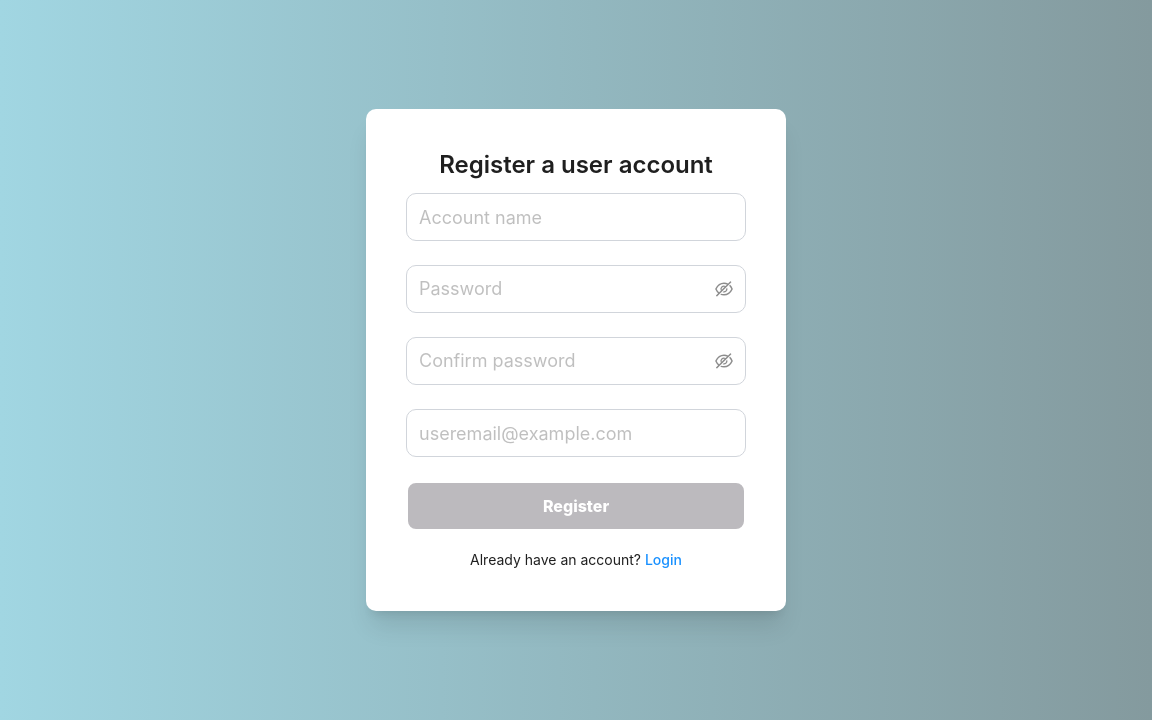
Test: RegisterPage › shows error when passwords do not match
In the password field with placeholder "Password": (565,289) [419, 270, 711, 308], type "Abc!1234"
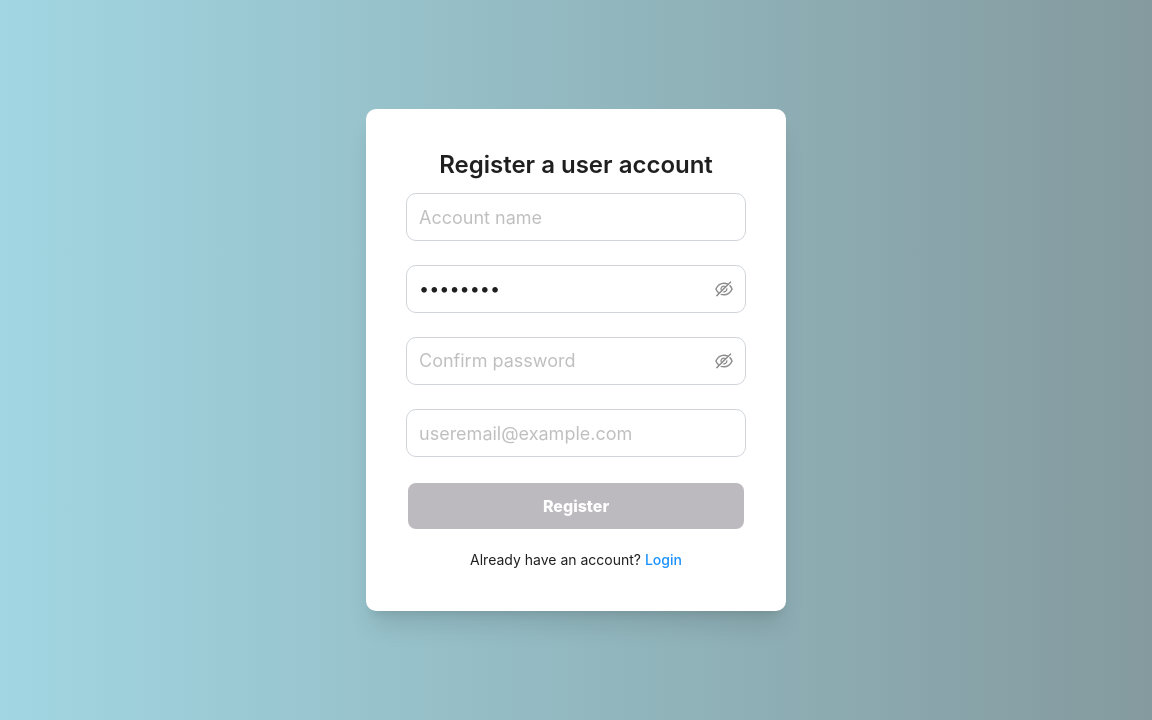
In the password field with placeholder "Confirm password": (565,361) [419, 342, 711, 380], type "Different1!"
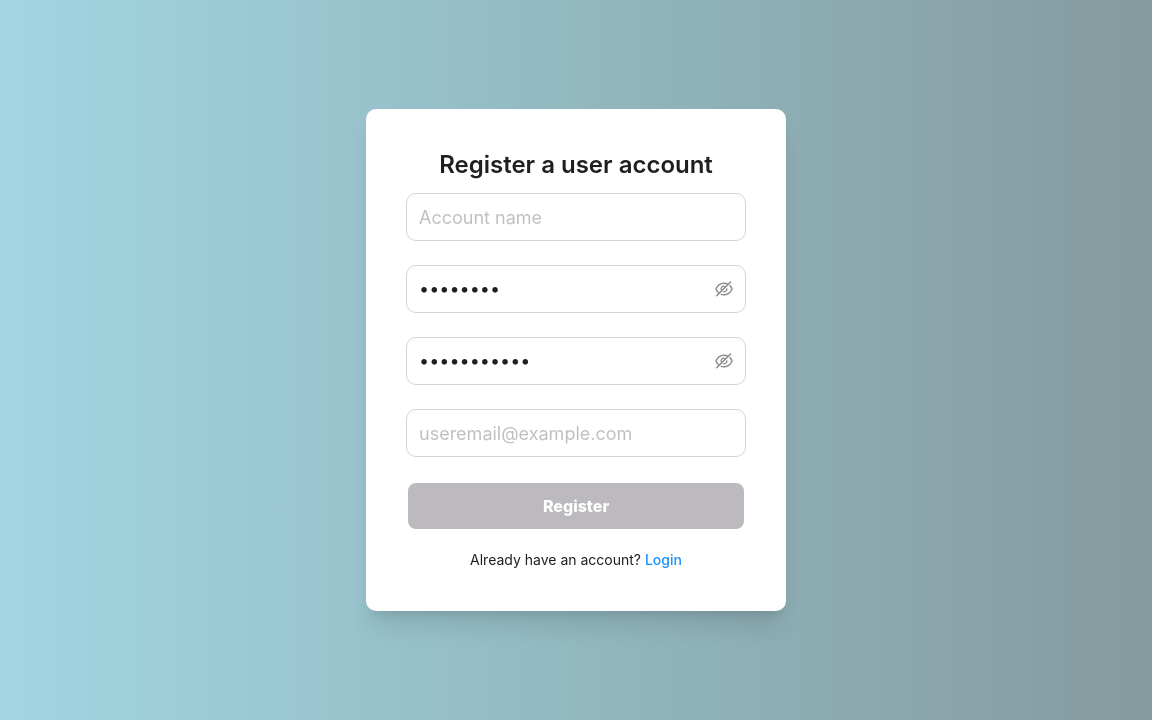
Click the button "Register": (576,506) [406, 481, 746, 531]
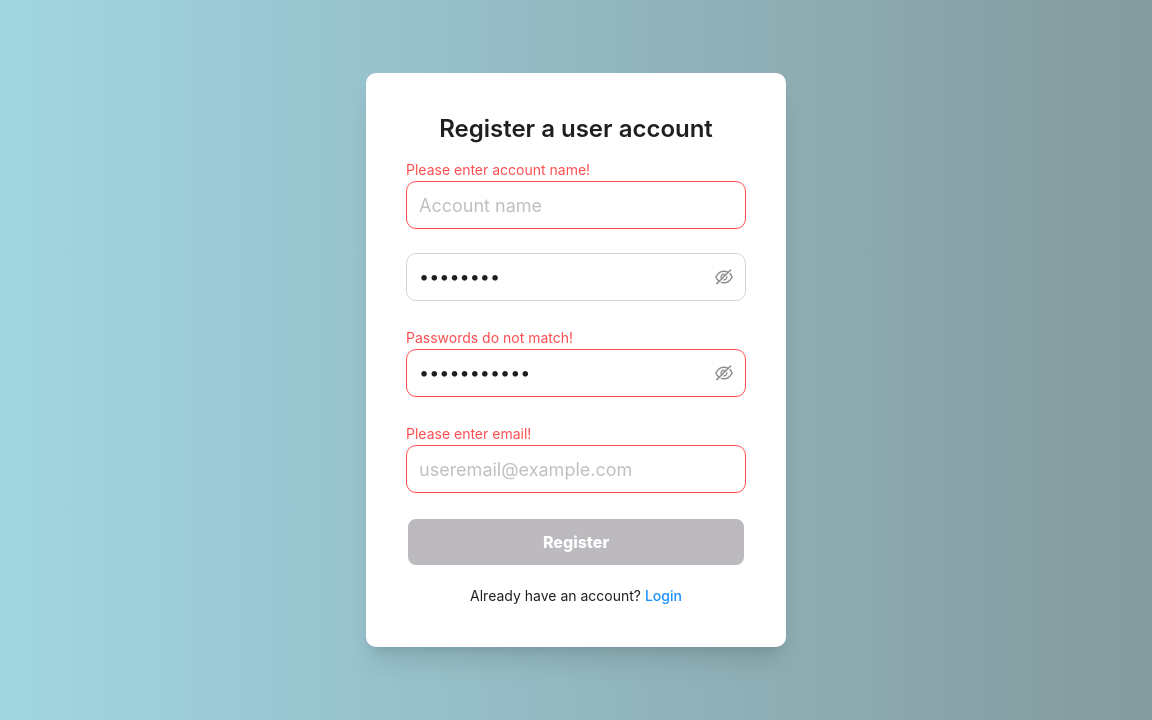
Result: the text "Passwords do not match!" is shown at [406, 329, 573, 346]
